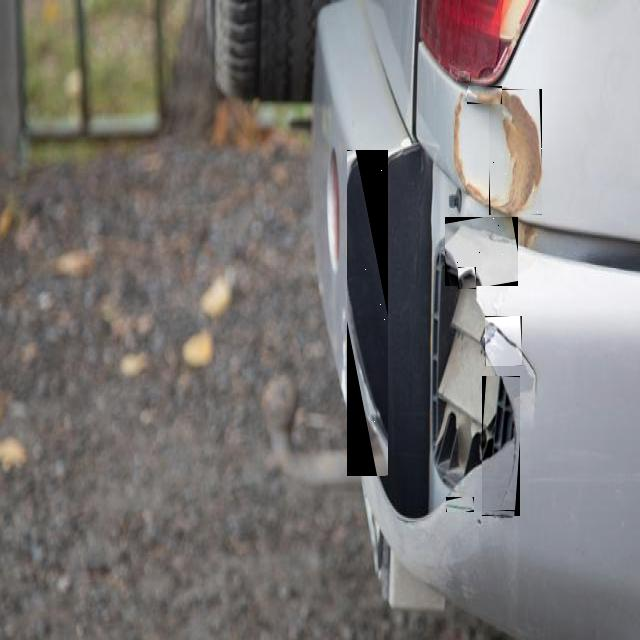Dent: (347, 150, 388, 476), (489, 89, 542, 215), (482, 376, 520, 516), (445, 217, 518, 286), (485, 316, 522, 366), (467, 86, 502, 104), (446, 497, 474, 512), (458, 267, 476, 289), (502, 101, 516, 122), (353, 212, 360, 247), (458, 71, 471, 81), (492, 511, 515, 516)
